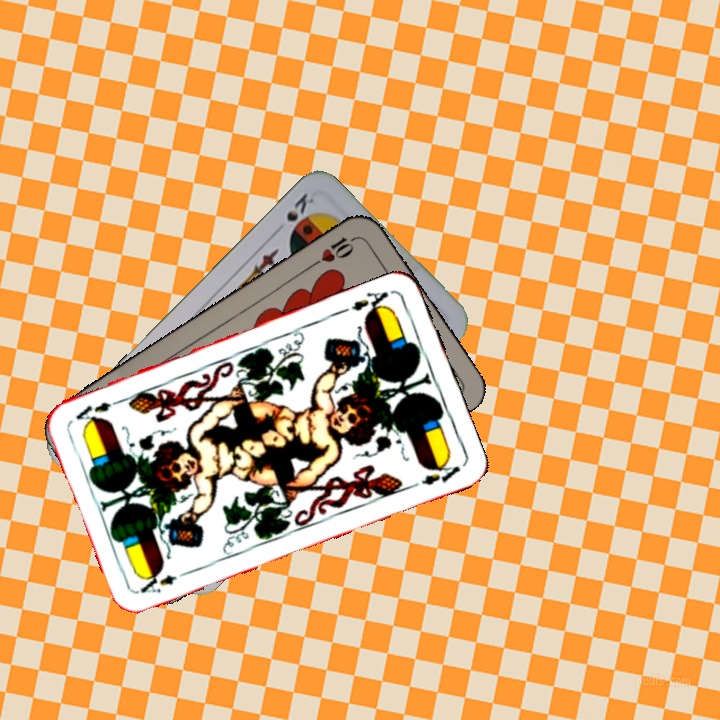EA: (347, 287, 392, 319), (136, 567, 180, 596)
H10: (307, 232, 361, 270)
SK: (270, 188, 317, 236)
